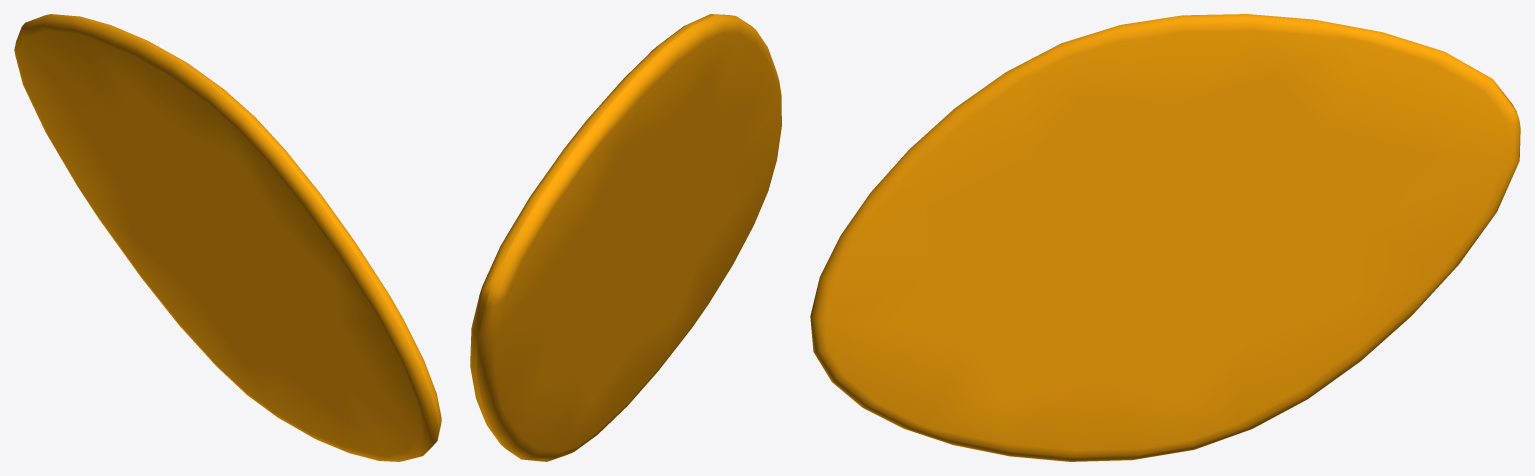
Rendered from fallLeaf_7.glb.
The picture shows the model from 3 angles, left to right: view 1: azimuth 30°, elevation 25°; view 2: azimuth 150°, elevation 25°; view 3: azimuth 270°, elevation 25°; orthographic projection. The views are drawn at different scales.
Visible parts, largest first — view 1: Leaf_YellowGreen_Standard.190; view 2: Leaf_YellowGreen_Standard.190; view 3: Leaf_YellowGreen_Standard.190.
Boxes of the visible parts, <box> form: Leaf_YellowGreen_Standard.190: <box>14,14,441,461</box>; Leaf_YellowGreen_Standard.190: <box>470,14,781,461</box>; Leaf_YellowGreen_Standard.190: <box>810,14,1520,461</box>.
Size of the model in its own units: 0.414 by 1.15 by 1.86.
